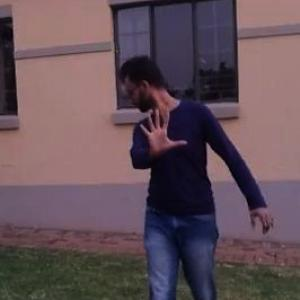follow_hand: (134, 105, 188, 158)
